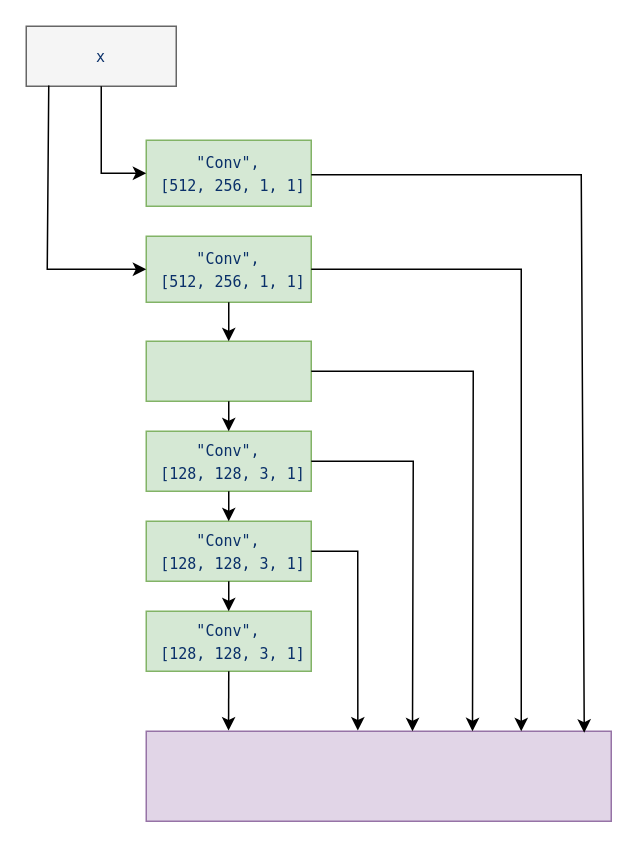
Image size: 638x848. Some labels were removed from this diagram. The shapes that lost their labels are listed below. From the top down, each one's box as (x1, y1, x2, y2) in pixels, then its label:
(145, 340, 311, 401): "Conv", [256, 128, 3, 1]
(145, 730, 611, 821): "Cat", [-1, -2, -3, -4, -5, -6]
